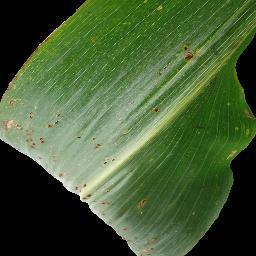Corn_Common_Rust: (0, 110, 60, 153), (113, 226, 182, 255), (36, 22, 65, 49), (0, 68, 18, 109), (68, 181, 93, 206), (179, 35, 198, 63), (94, 197, 113, 219), (241, 100, 256, 124), (31, 154, 54, 168), (101, 153, 119, 169), (87, 134, 104, 150), (156, 63, 174, 78), (138, 193, 150, 214), (54, 170, 68, 184), (154, 103, 165, 114), (70, 133, 83, 141)
